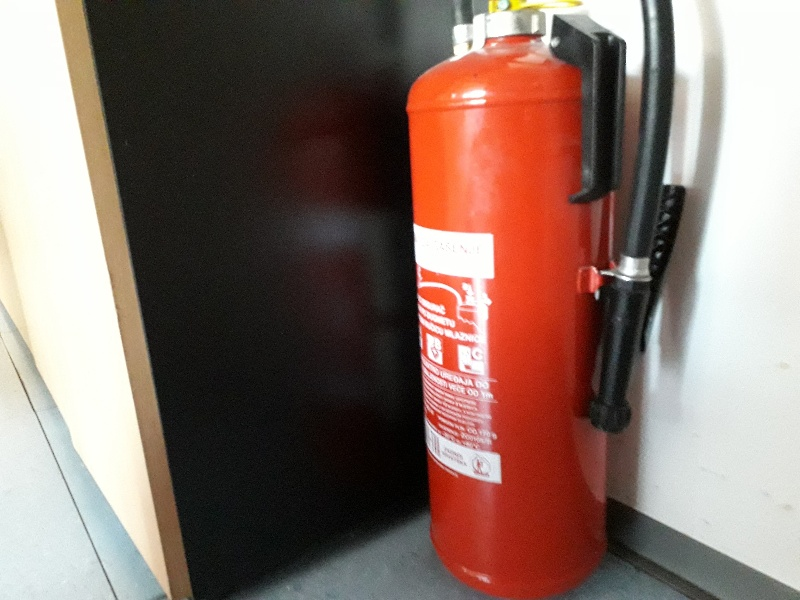vataparat: (404, 1, 688, 598)
